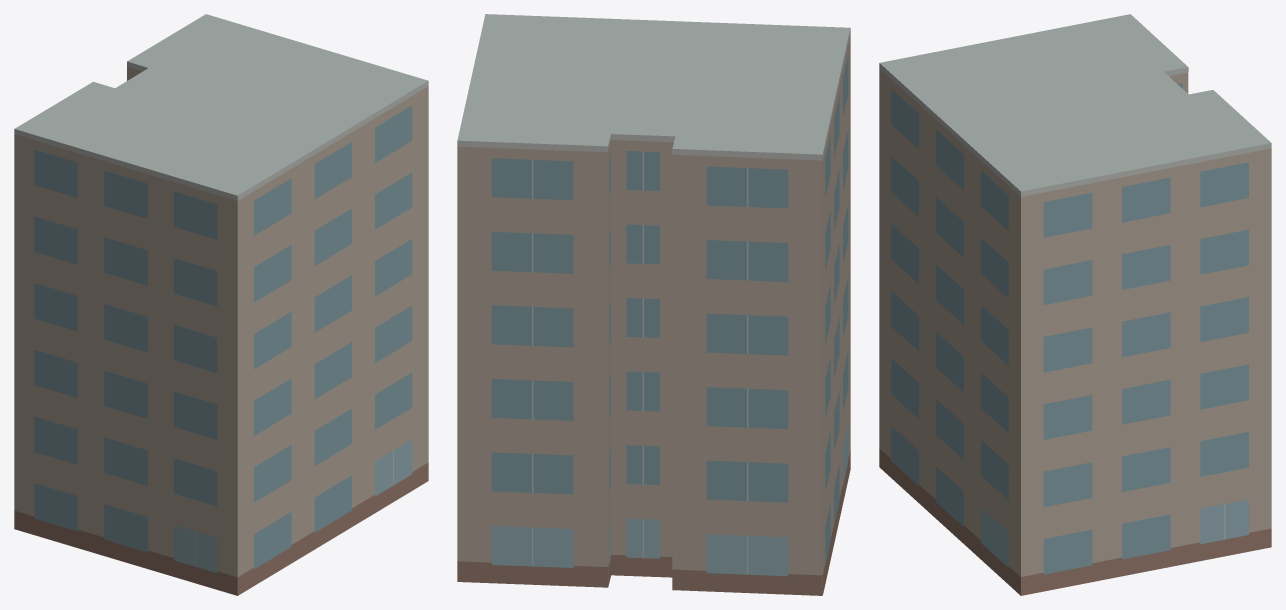
File: survey-upis-32953628.glb
3 renders of one model, left to right at view 1: azimuth 30°, elevation 25°; view 2: azimuth 150°, elevation 25°; view 3: azimuth 270°, elevation 25°, orthographic. The views are drawn at different scales.
Visible parts, largest first — view 1: survey-upis-32953628.tmp; view 2: survey-upis-32953628.tmp; view 3: survey-upis-32953628.tmp.
Part boxes in pixels (<box>): survey-upis-32953628.tmp: <box>14,14,428,595</box>; survey-upis-32953628.tmp: <box>457,14,850,595</box>; survey-upis-32953628.tmp: <box>879,14,1271,595</box>.
Bounding box in the file's own units: 17.25 × 18.3 × 16.1.
